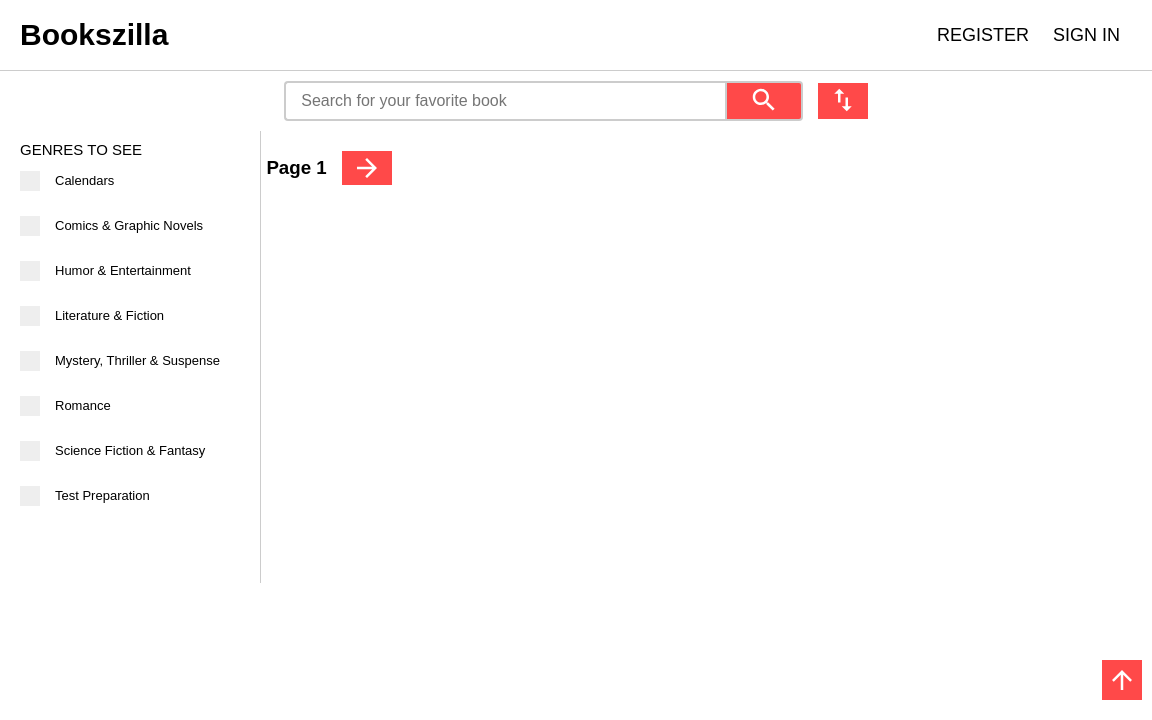
Test: Register form › Not filling in all fields should result in unsuccessful register
Step 1. Click the button with id "register-button" → (983, 35), box [925, 14, 1041, 56]
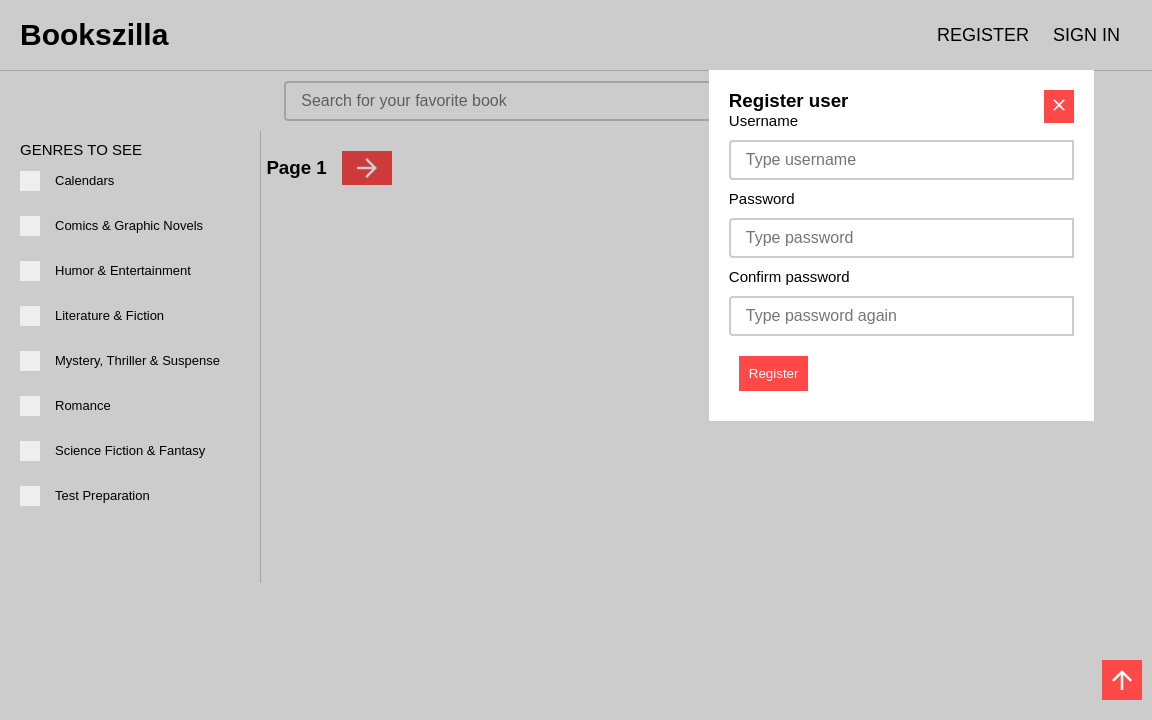
Step 2. Type "myPassword" into the password field with placeholder "Type password" → (902, 238), box [729, 218, 1075, 258]
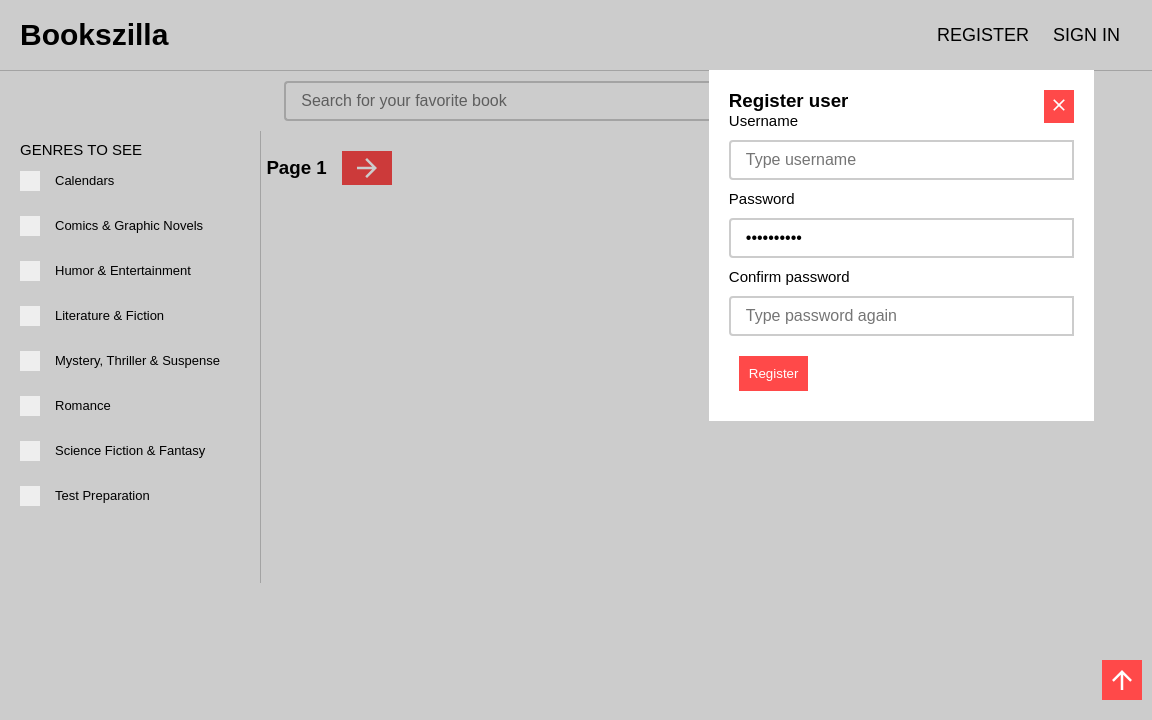
Step 3. Type "myPassword" into the password field with id "confirm-password-input" → (902, 316), box [729, 296, 1075, 336]
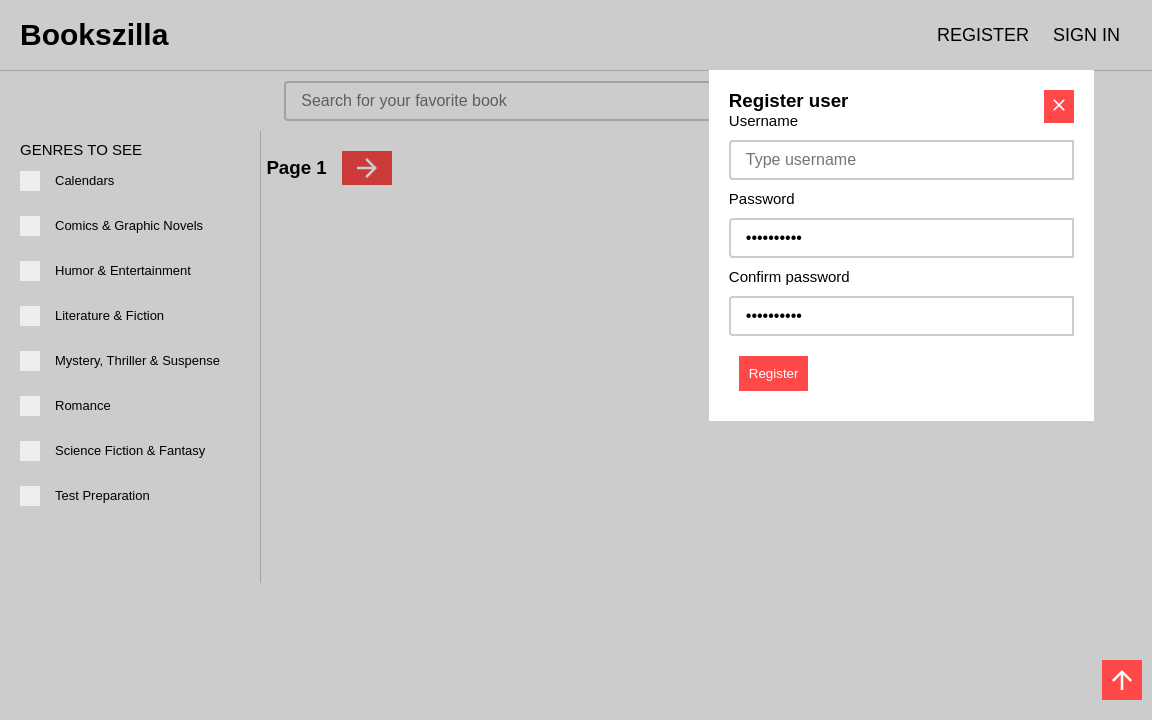
Step 4. Click the button with id "user-submit" → (774, 374), box [739, 356, 809, 391]
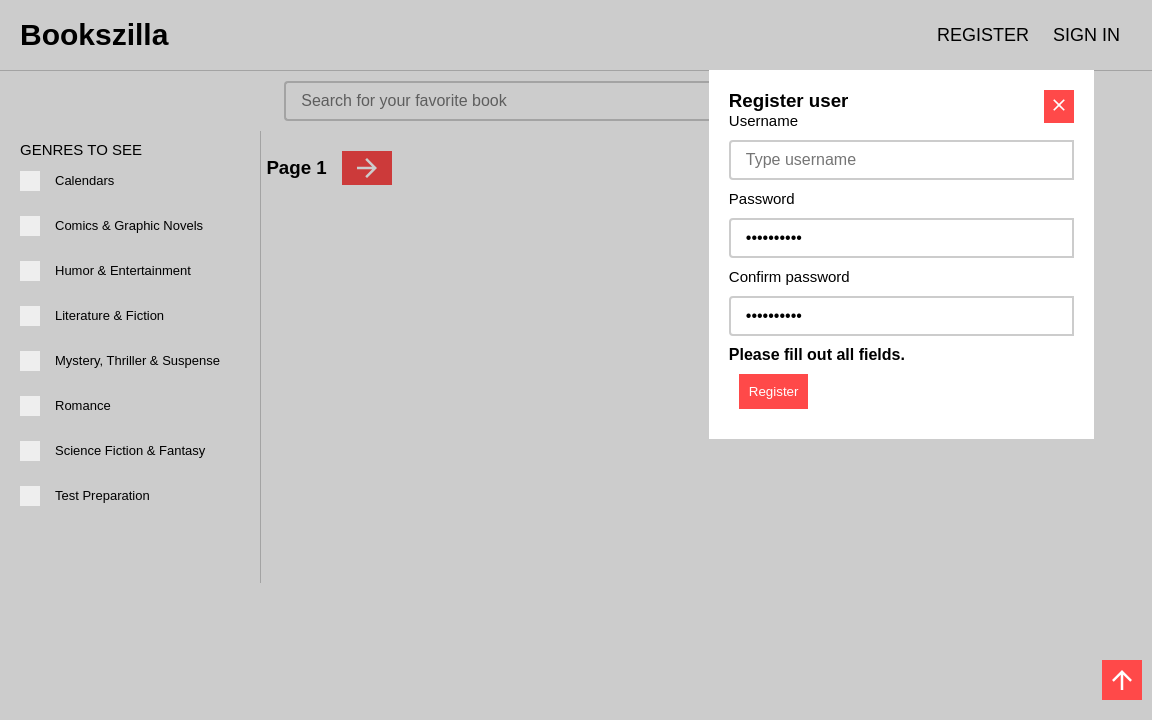
Expected: the text "Please fill out all fields." is shown, [729, 346, 905, 363]
